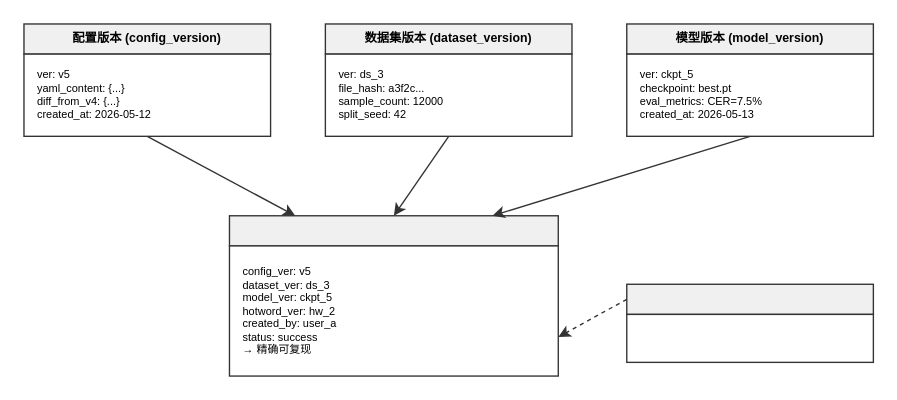
Some shapes in this 897 by 400 pixel diagram are drawn without their labels. The centre of each missing label's shape, as x and y in pixels:
ver: hw_2 word_count: 15: (x=749, y=337)
实验快照 (Experiment): (x=393, y=230)
热词版本 (hotword_version): (x=749, y=298)
